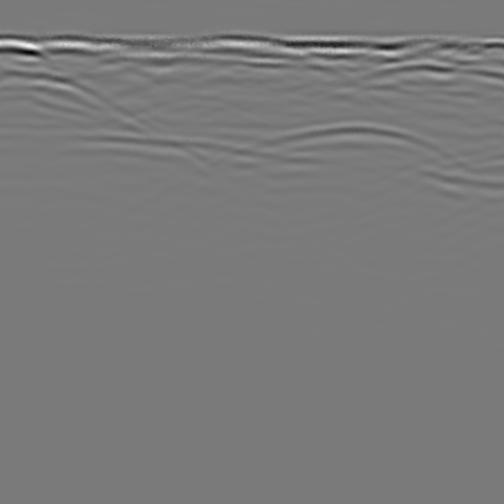hyperbola: (200, 112, 487, 233)
